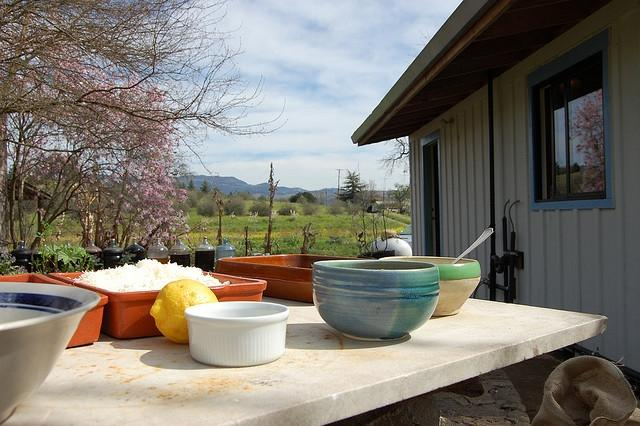lemon: (150, 280, 219, 345)
